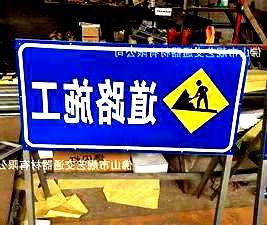sign: (18, 40, 245, 149)
